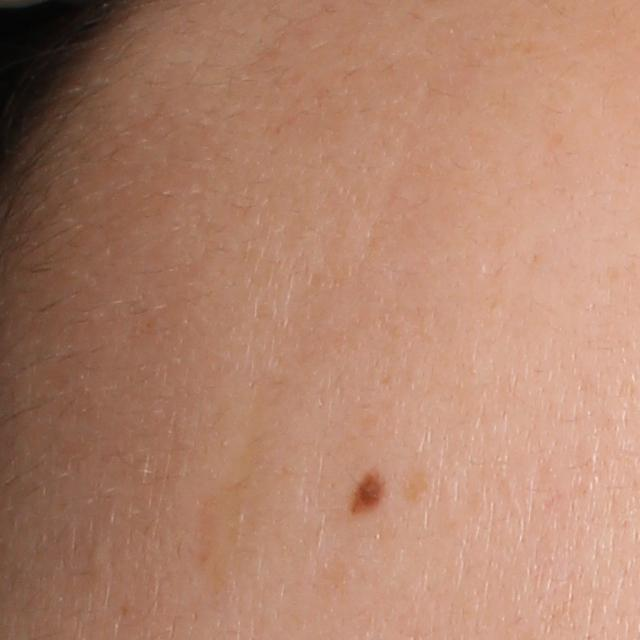nevus: (343, 472, 393, 517)
